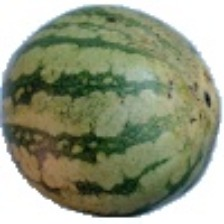watermelon: (28, 27, 196, 163)
